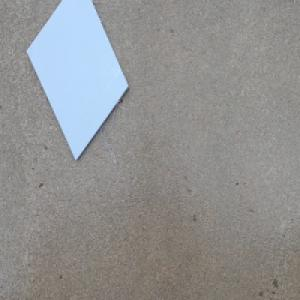PaintChip: (25, 0, 131, 163)
